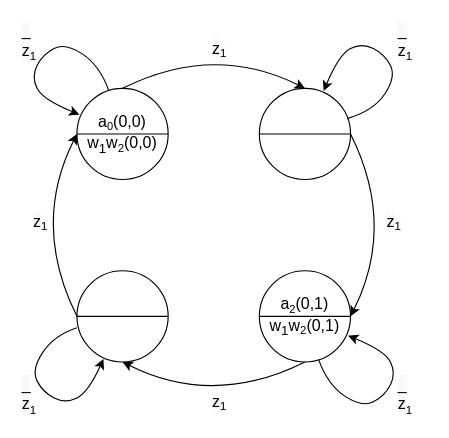
The diagram is 449 pixels wide and 438 high, and some of its shapes have lost their labels. Here are the shapes that lost their labels. From the top down, the centre of each, then its label:
At point (304, 133): "a 1 (1,1) w 1 w 2 (1,1)".
At point (122, 316): "a 3 (1,0) w 1 w 2 (1,0)".
